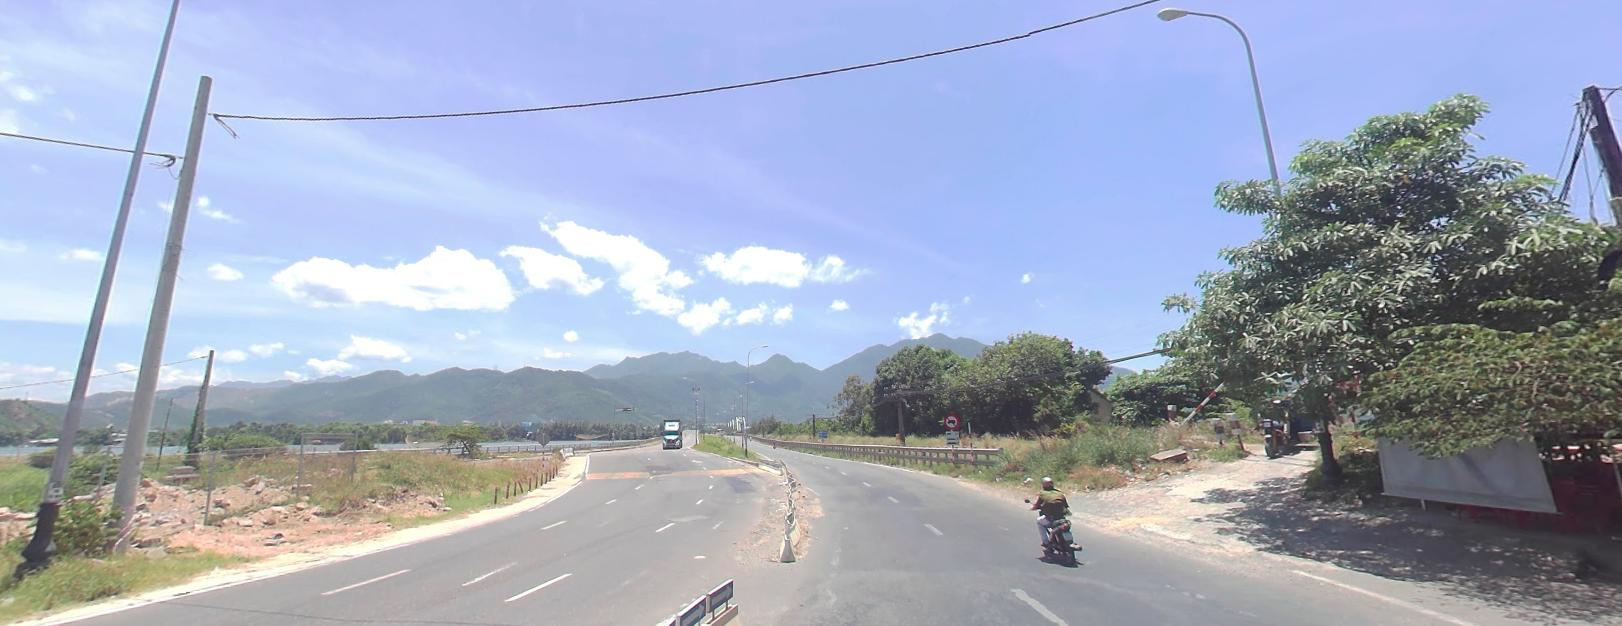Cam con lai: (941, 412, 960, 427)
